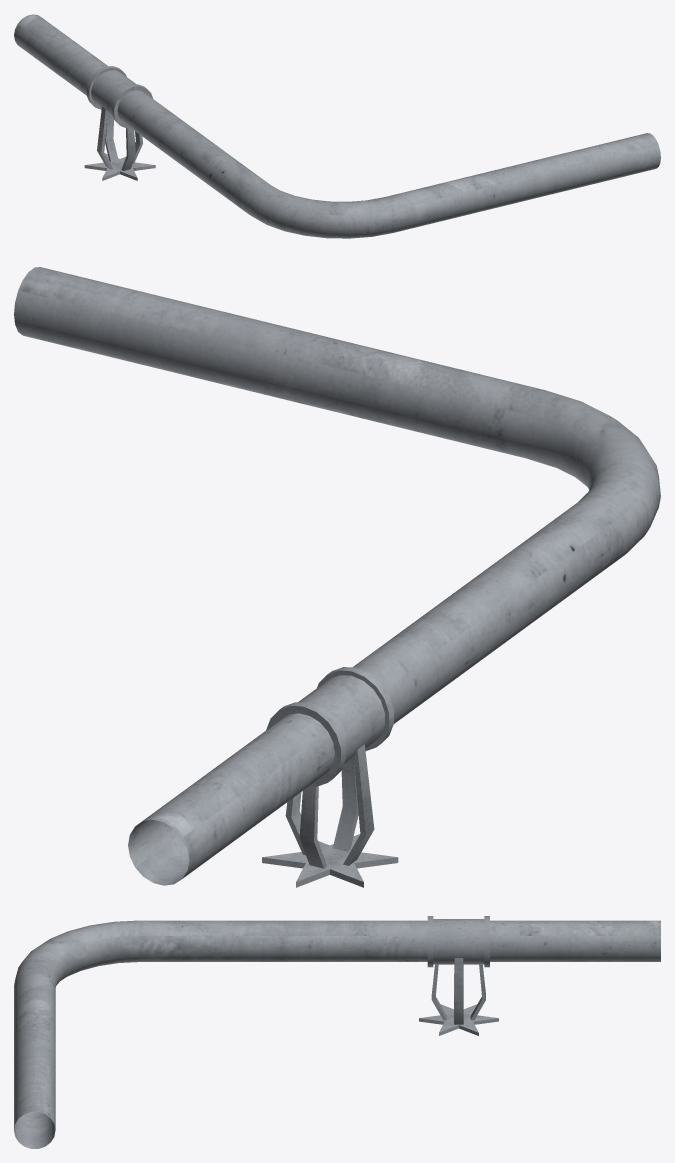
The model's file is Prop_Fire_Detector_x3.fbx.
The picture shows the model from 3 angles, top to bottom: view 1: azimuth 30°, elevation 25°; view 2: azimuth 150°, elevation 25°; view 3: azimuth 270°, elevation 25°; orthographic projection. The views are drawn at different scales.
Visible parts, largest first — view 1: Prop_Fire_Detector_x3; view 2: Prop_Fire_Detector_x3; view 3: Prop_Fire_Detector_x3.
Part boxes in pixels (<box>): Prop_Fire_Detector_x3: <box>14,14,660,238</box>; Prop_Fire_Detector_x3: <box>14,267,660,887</box>; Prop_Fire_Detector_x3: <box>14,916,660,1148</box>.
Bounding box in the file's own units: 59.03 × 13.96 × 79.28.
